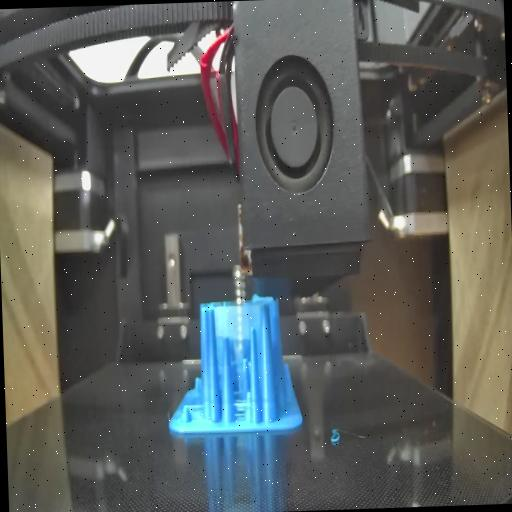stringing: (212, 300, 260, 344), (229, 392, 253, 424), (184, 402, 206, 412)
